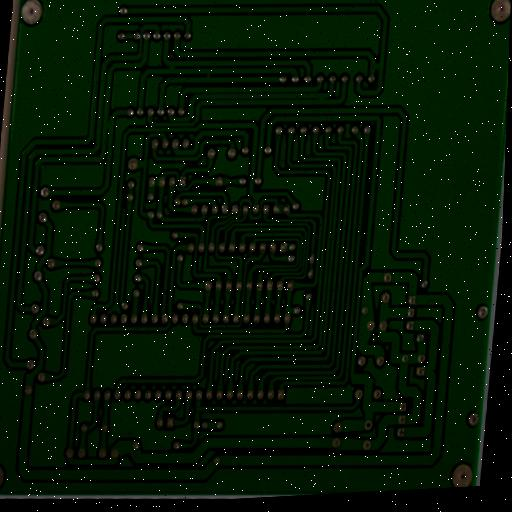short_circuit: (367, 55, 386, 75), (163, 58, 179, 76), (202, 66, 215, 83), (314, 91, 328, 106), (102, 117, 116, 132)
